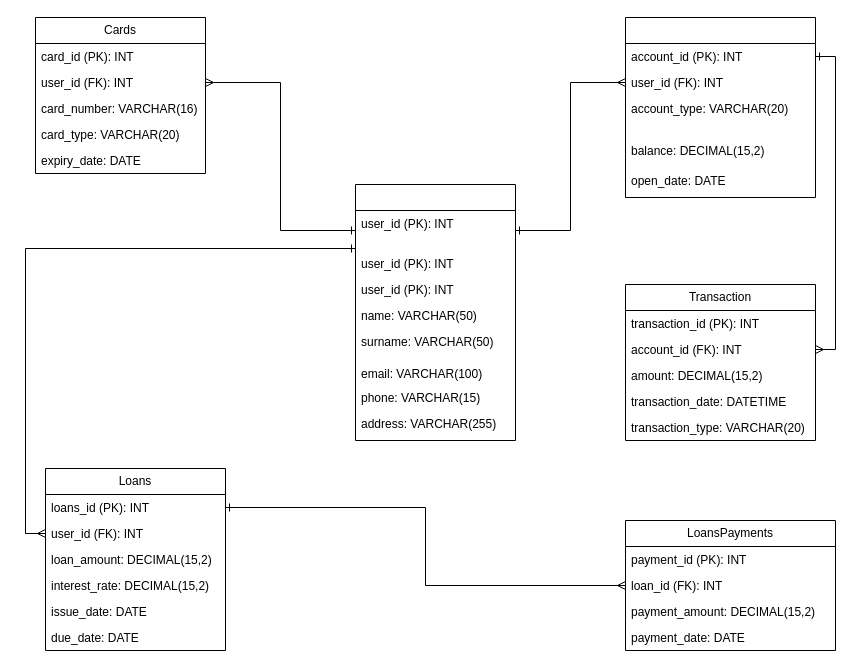
Some shapes in this 862 by 671 pixel diagram are drawn without their labels. Here are the shapes that lost their labels. From the top down, the box of each, then its label:
(624, 16, 816, 198): Accounts
(354, 184, 516, 440): Users
